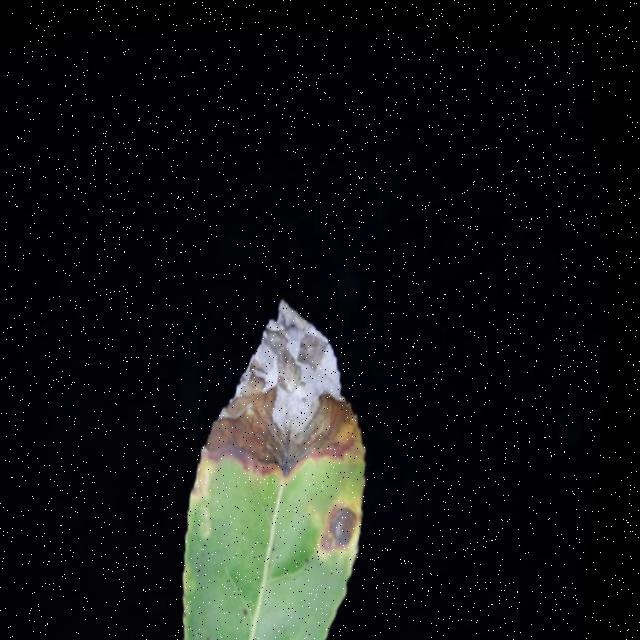Tea cloud leaf blight: (224, 282, 388, 475)
